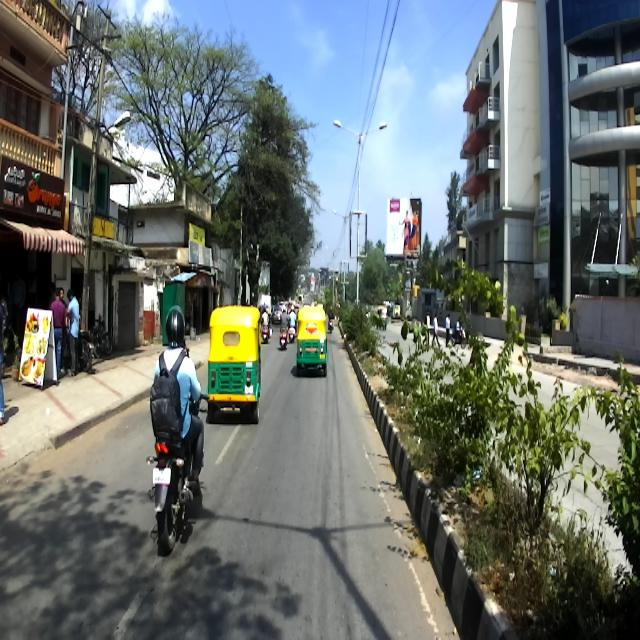auto ahead at: (206, 296, 272, 432), (289, 292, 327, 384)
motorcycle ahead at: (144, 429, 210, 564)
